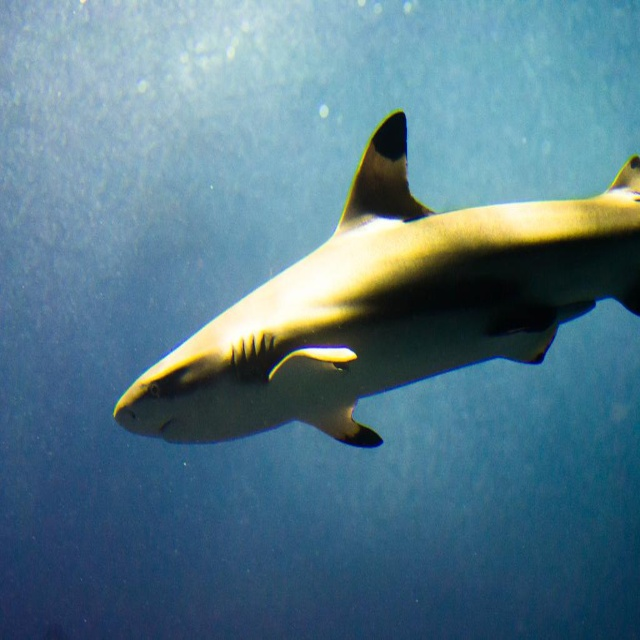Shark: (112, 110, 638, 448)
